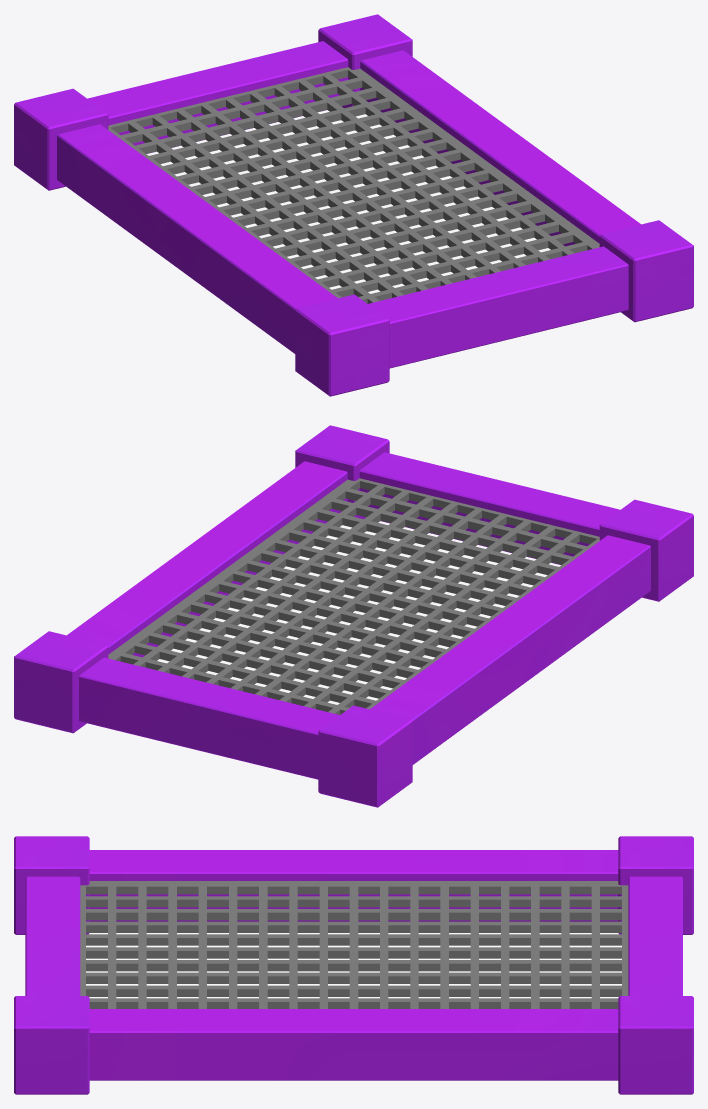
Rendered from BridgeOneSegmentPink.fbx.
The picture shows the model from 3 angles, top to bottom: view 1: azimuth 30°, elevation 25°; view 2: azimuth 150°, elevation 25°; view 3: azimuth 270°, elevation 25°; orthographic projection. The views are drawn at different scales.
Parts seen in each view (by area): view 1: Platform, Grate; view 2: Platform, Grate; view 3: Platform, Grate.
Part boxes in pixels (bbox=[...]): Platform: bbox=[14, 14, 693, 396]; Grate: bbox=[108, 67, 599, 303]; Platform: bbox=[14, 425, 693, 807]; Grate: bbox=[108, 478, 599, 714]; Platform: bbox=[14, 836, 693, 1094]; Grate: bbox=[80, 881, 628, 1008].
Size of the model in its own units: 6 by 1 by 9.
